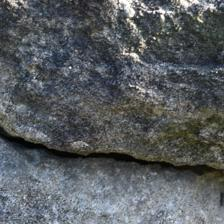Crack: (2, 63, 219, 119)
